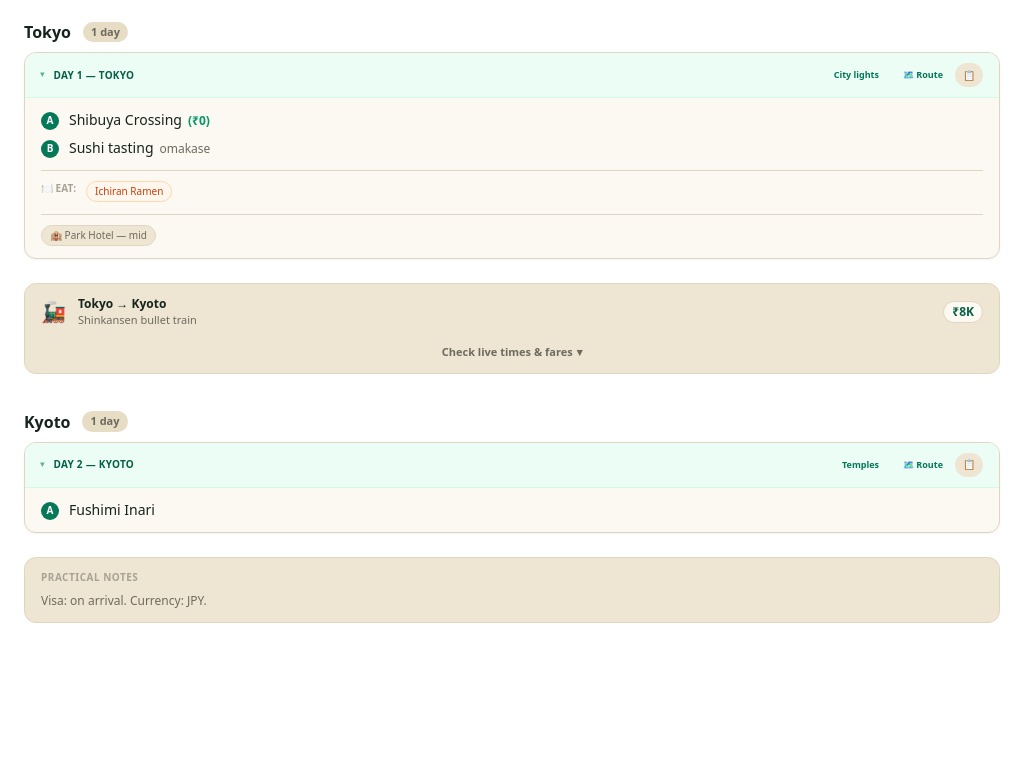
ItineraryView › copies the day route link and shows a transient confirmation
Click the button titled "Copy route link" in the row of "City lights".
click(969, 75)  # box x1=955 y1=63 x2=983 y2=87
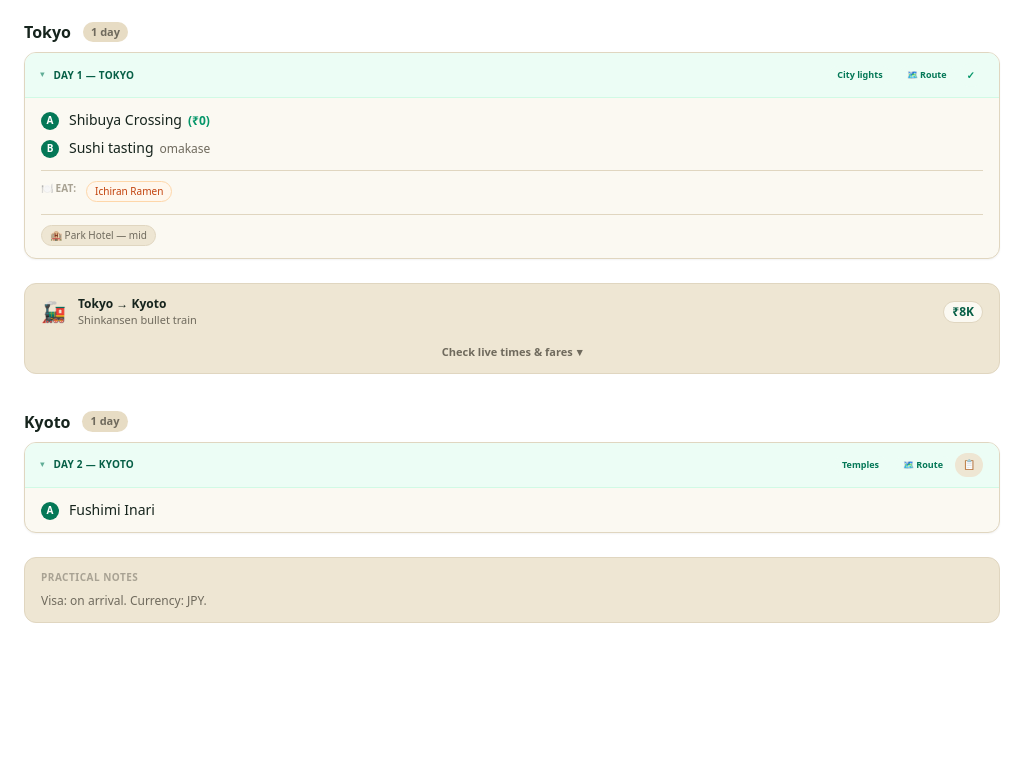
expect the button titled "Copied!" is shown: met, box x1=959 y1=63 x2=983 y2=87
